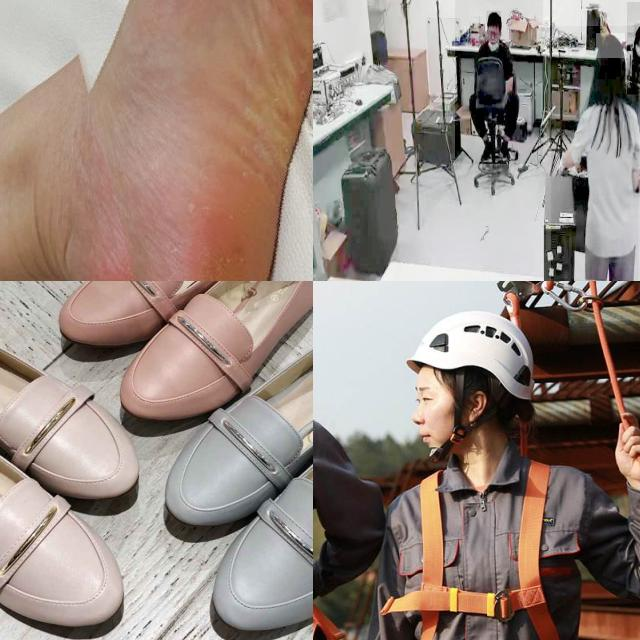Barefoots: (76, 0, 313, 281)
Harness: (394, 462, 587, 640)
Sandals: (152, 306, 313, 640), (0, 291, 140, 640), (44, 281, 313, 423)
face_mask: (634, 34, 640, 56)
face_nomask: (487, 27, 501, 51)
head_nohelmet: (596, 33, 626, 59), (486, 11, 502, 24), (634, 23, 640, 36)
person: (551, 26, 639, 281), (454, 0, 543, 164), (627, 1, 640, 94)
shoes: (498, 137, 512, 164), (478, 138, 492, 164)
